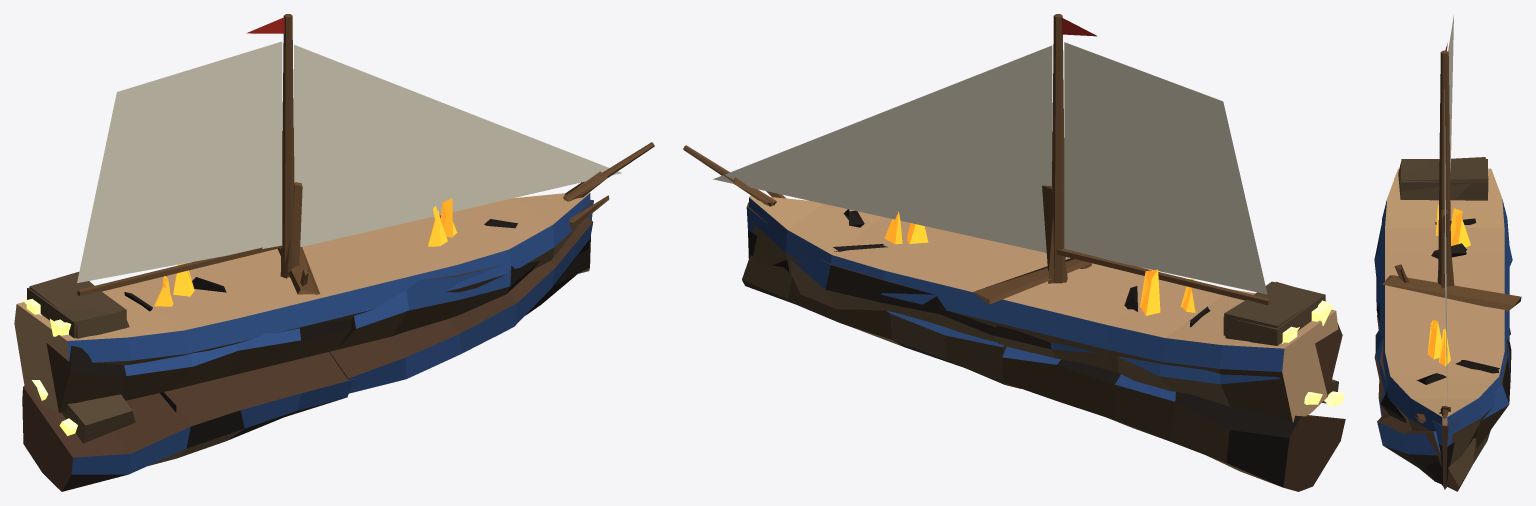
Rendered from ship_s2b.glb.
3 views of the same model, side by side, from view 1: azimuth 30°, elevation 25°; view 2: azimuth 150°, elevation 25°; view 3: azimuth 270°, elevation 25° (orthographic). The views are drawn at different scales.
Parts seen in each view (by area): view 1: seg0, sunk, seg1, seg0_broken, seg1_broken; view 2: seg0, sunk, seg1, seg0_broken, seg1_broken; view 3: seg0, seg1, seg0_broken, seg1_broken, sunk.
Part boxes in pixels (box(x1,y1,x2,y2)): seg0: box(14, 14, 621, 412); sunk: box(22, 195, 609, 491); seg1: box(302, 142, 654, 320); seg0_broken: box(22, 182, 351, 412); seg1_broken: box(338, 171, 607, 349); seg0: box(713, 14, 1338, 422); sunk: box(742, 191, 1345, 491); seg1: box(683, 145, 1047, 327); seg0_broken: box(973, 185, 1342, 422); seg1_broken: box(734, 177, 996, 342); seg0: box(1379, 15, 1509, 422); seg1: box(1379, 302, 1509, 489); seg0_broken: box(1374, 157, 1521, 335); seg1_broken: box(1375, 319, 1511, 489); sunk: box(1374, 264, 1490, 491).
Size of the model in its own units: 2.12 by 1.35 by 0.4757.
